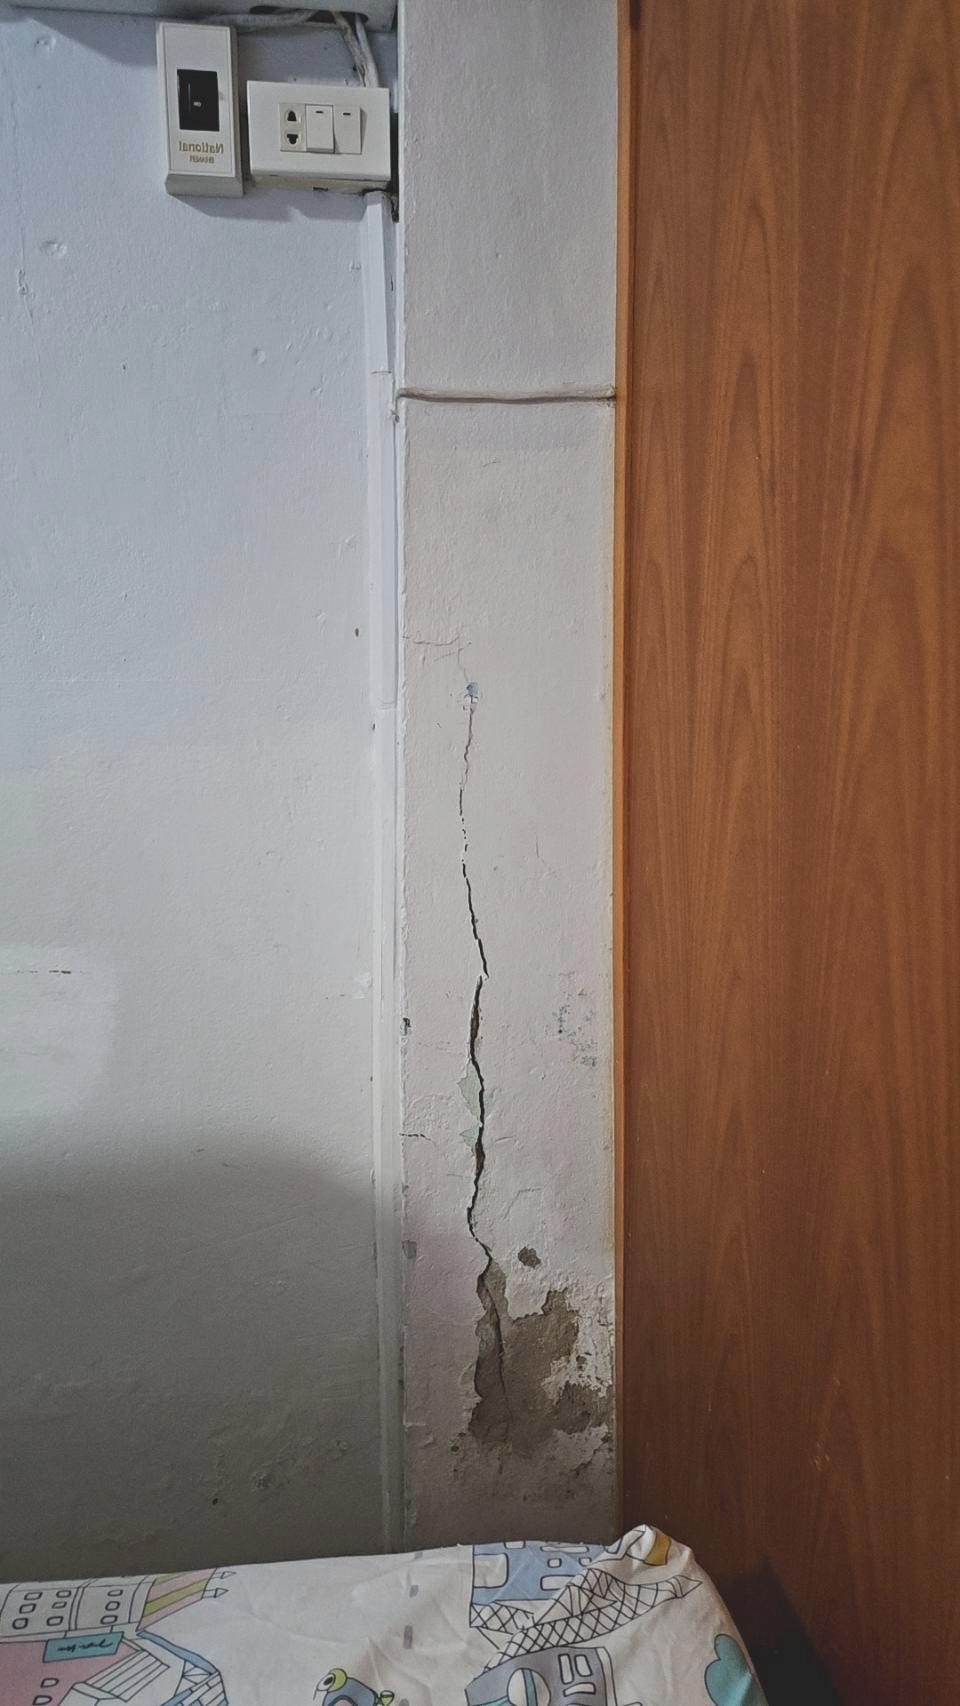High: (393, 373, 625, 1529)
